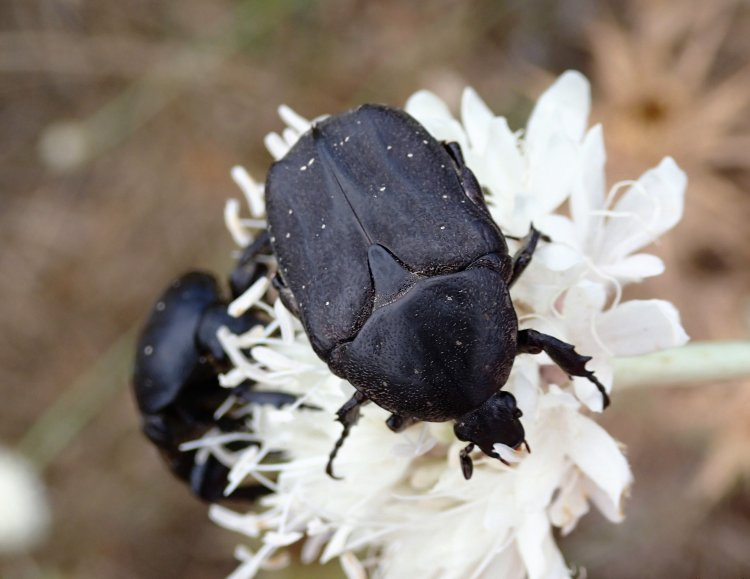Protaetia_morio_morio: (260, 86, 630, 483)
